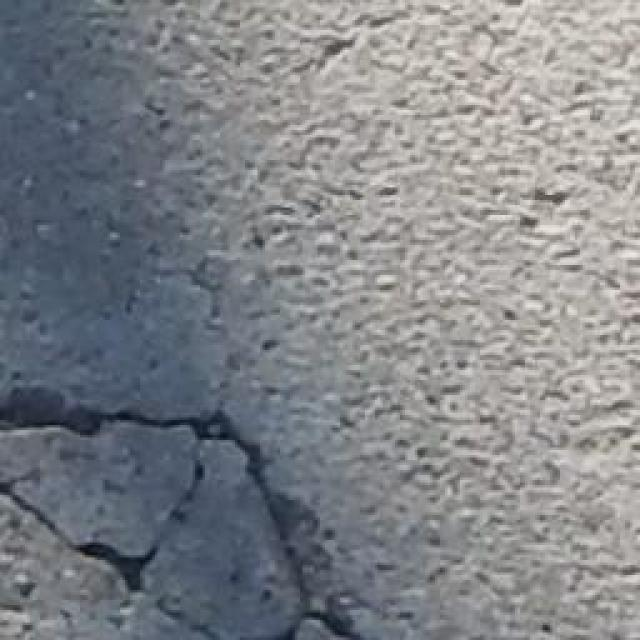concrete-crack: (0, 384, 382, 640), (0, 459, 245, 640)
